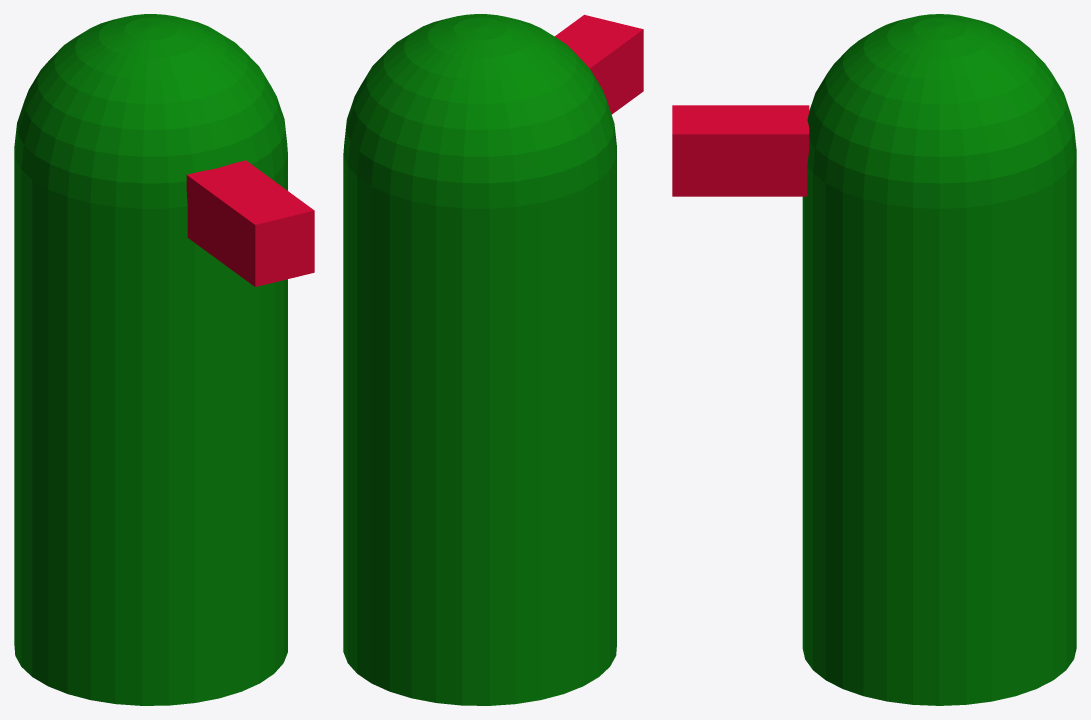
File: josouzai.fbx
3 renders of one model, left to right at view 1: azimuth 30°, elevation 25°; view 2: azimuth 150°, elevation 25°; view 3: azimuth 270°, elevation 25°, orthographic.
Visible parts, largest first — view 1: Cylinder, Sphere, Cube; view 2: Cylinder, Sphere, Cube; view 3: Cylinder, Sphere, Cube.
Boxes of the visible parts, x1,y1,x2,y2 form: Cylinder: (14, 149, 287, 705); Sphere: (14, 14, 287, 208); Cube: (186, 160, 314, 286); Cylinder: (343, 150, 616, 705); Sphere: (343, 14, 616, 208); Cube: (555, 14, 643, 114); Cylinder: (802, 152, 1076, 705); Sphere: (807, 14, 1076, 208); Cube: (672, 105, 809, 196).
Size of the model in its own units: 200 by 500 by 295.
